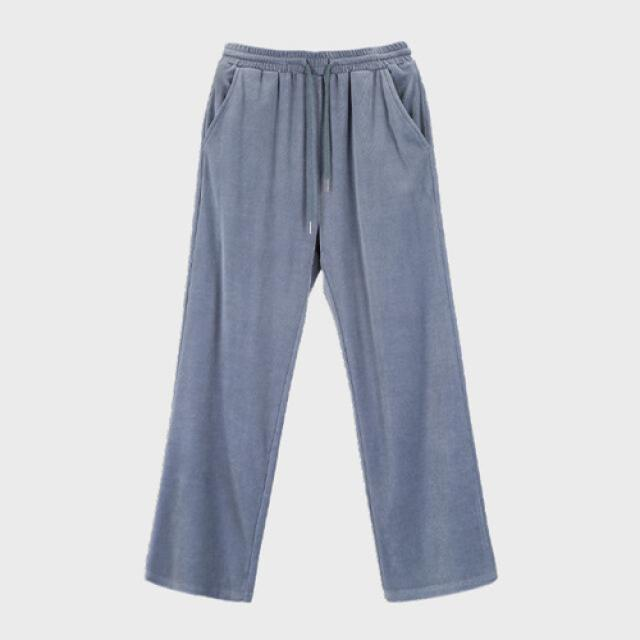Blouse_deep: (149, 30, 502, 583)
